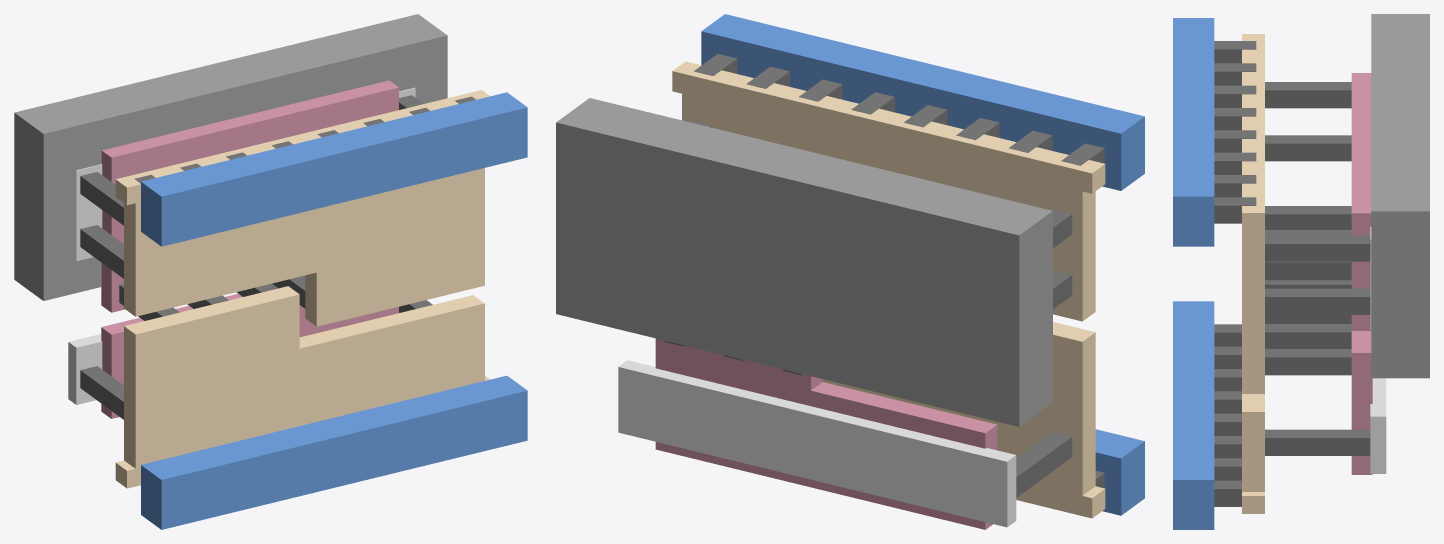
File: sky130_fd_sc_hd__decap_8.gds.gltf
The picture shows the model from 3 angles, left to right: view 1: azimuth 30°, elevation 25°; view 2: azimuth 150°, elevation 25°; view 3: azimuth 270°, elevation 25°; orthographic projection. The views are drawn at different scales.
Parts seen in each view (by area): view 1: sky130_fd_sc_hd__decap_8_li1, sky130_fd_sc_hd__decap_8_met1, sky130_fd_sc_hd__decap_8_nwell, sky130_fd_sc_hd__decap_8_poly, sky130_fd_sc_hd__decap_8_licon, sky130_fd_sc_hd__decap_8_diff, sky130_fd_sc_hd__decap_8_mcon; view 2: sky130_fd_sc_hd__decap_8_nwell, sky130_fd_sc_hd__decap_8_li1, sky130_fd_sc_hd__decap_8_diff, sky130_fd_sc_hd__decap_8_met1, sky130_fd_sc_hd__decap_8_poly, sky130_fd_sc_hd__decap_8_mcon, sky130_fd_sc_hd__decap_8_licon; view 3: sky130_fd_sc_hd__decap_8_licon, sky130_fd_sc_hd__decap_8_nwell, sky130_fd_sc_hd__decap_8_met1, sky130_fd_sc_hd__decap_8_mcon, sky130_fd_sc_hd__decap_8_li1, sky130_fd_sc_hd__decap_8_poly, sky130_fd_sc_hd__decap_8_diff.
Boxes of the visible parts, x1=… form: sky130_fd_sc_hd__decap_8_li1: x1=115, y1=90, x2=489, y2=488; sky130_fd_sc_hd__decap_8_met1: x1=141, y1=92, x2=527, y2=529; sky130_fd_sc_hd__decap_8_nwell: x1=14, y1=14, x2=447, y2=300; sky130_fd_sc_hd__decap_8_poly: x1=101, y1=80, x2=398, y2=418; sky130_fd_sc_hd__decap_8_licon: x1=80, y1=95, x2=432, y2=419; sky130_fd_sc_hd__decap_8_diff: x1=68, y1=87, x2=415, y2=404; sky130_fd_sc_hd__decap_8_mcon: x1=134, y1=96, x2=475, y2=183; sky130_fd_sc_hd__decap_8_nwell: x1=556, y1=98, x2=1052, y2=426; sky130_fd_sc_hd__decap_8_li1: x1=672, y1=61, x2=1105, y2=518; sky130_fd_sc_hd__decap_8_diff: x1=618, y1=360, x2=1016, y2=527; sky130_fd_sc_hd__decap_8_met1: x1=701, y1=14, x2=1144, y2=515; sky130_fd_sc_hd__decap_8_poly: x1=655, y1=338, x2=997, y2=529; sky130_fd_sc_hd__decap_8_mcon: x1=694, y1=54, x2=1104, y2=488; sky130_fd_sc_hd__decap_8_licon: x1=664, y1=121, x2=1072, y2=497; sky130_fd_sc_hd__decap_8_licon: x1=1265, y1=82, x2=1370, y2=455; sky130_fd_sc_hd__decap_8_nwell: x1=1371, y1=14, x2=1429, y2=378; sky130_fd_sc_hd__decap_8_met1: x1=1173, y1=18, x2=1214, y2=529; sky130_fd_sc_hd__decap_8_mcon: x1=1214, y1=41, x2=1256, y2=506; sky130_fd_sc_hd__decap_8_li1: x1=1242, y1=34, x2=1264, y2=513; sky130_fd_sc_hd__decap_8_poly: x1=1351, y1=73, x2=1372, y2=474; sky130_fd_sc_hd__decap_8_diff: x1=1370, y1=227, x2=1386, y2=473.
Bounding box in the file's own units: 4.06 × 3.2 × 2.24.
